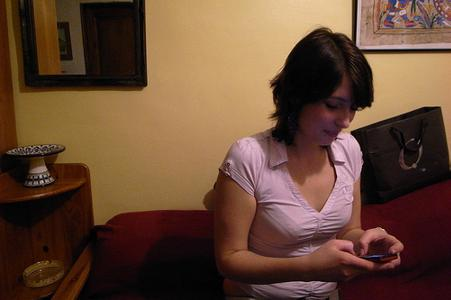person: (213, 29, 403, 299)
